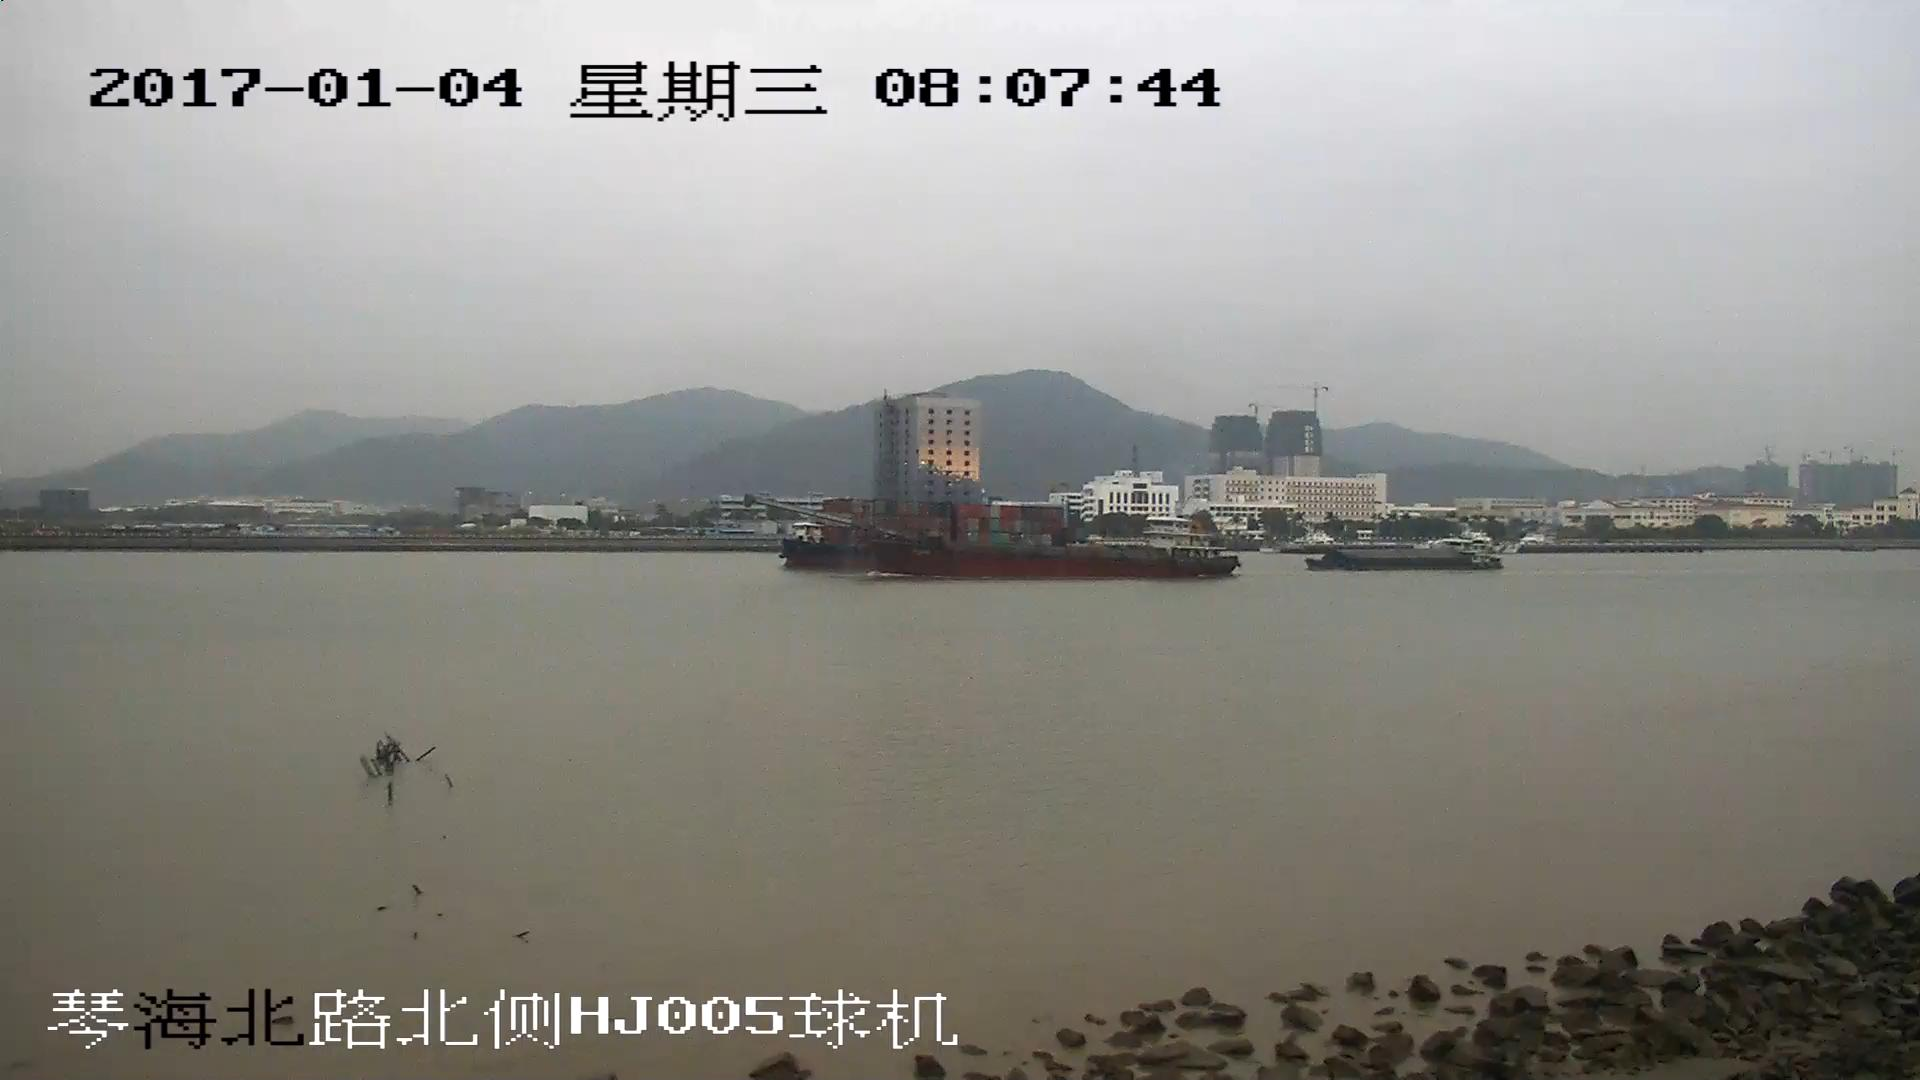bulk cargo carrier: (747, 501, 1238, 577)
container ship: (824, 500, 1075, 536)
